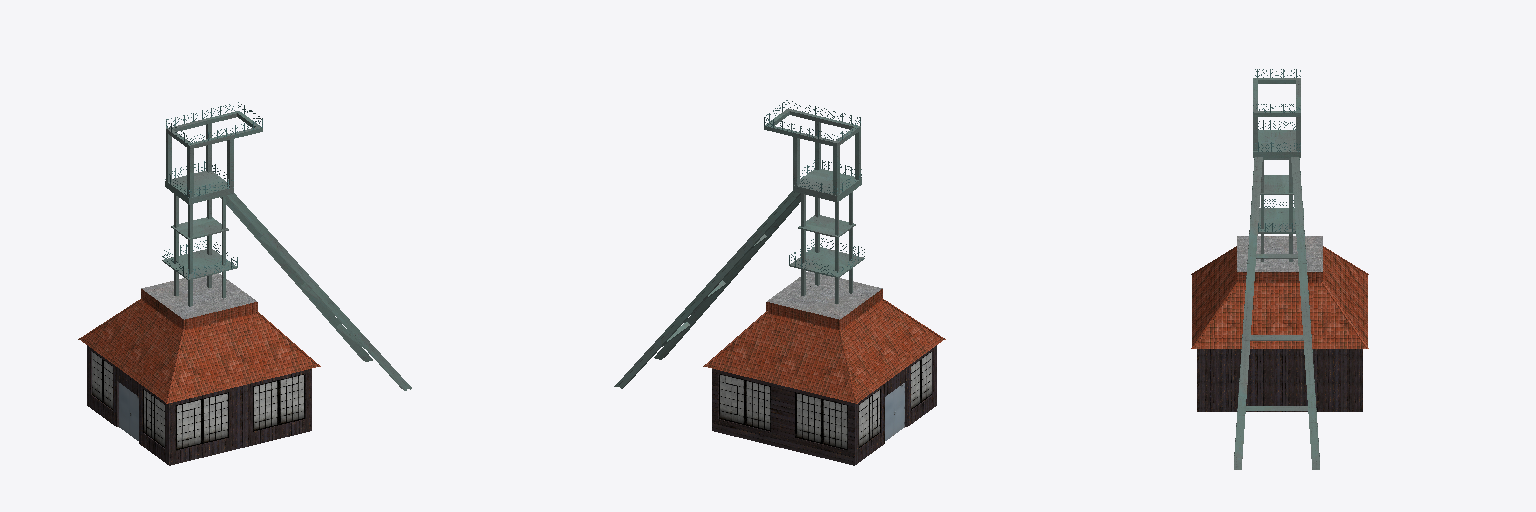
3 views of the same model, side by side, from view 1: azimuth 30°, elevation 25°; view 2: azimuth 150°, elevation 25°; view 3: azimuth 270°, elevation 25° (orthographic).
Visible parts, largest first — view 1: HouseRoof, HouseBody, ShaftMetal, ShaftFences; view 2: HouseRoof, HouseBody, ShaftMetal, ShaftFences; view 3: HouseRoof, ShaftMetal, HouseBody.
Boxes of the visible parts, x1,y1,x2,y2 form: HouseRoof: [78, 273, 320, 403]; HouseBody: [87, 345, 311, 465]; ShaftMetal: [162, 111, 411, 390]; ShaftFences: [162, 102, 262, 278]; HouseRoof: [703, 271, 945, 403]; HouseBody: [712, 345, 936, 465]; ShaftMetal: [614, 109, 864, 388]; ShaftFences: [764, 100, 864, 275]; HouseRoof: [1191, 236, 1368, 348]; ShaftMetal: [1234, 78, 1319, 469]; HouseBody: [1197, 349, 1362, 411].
Size of the model in its own units: 15.96 by 16.95 by 9.22.
Materials: 4 (4 with a texture image).